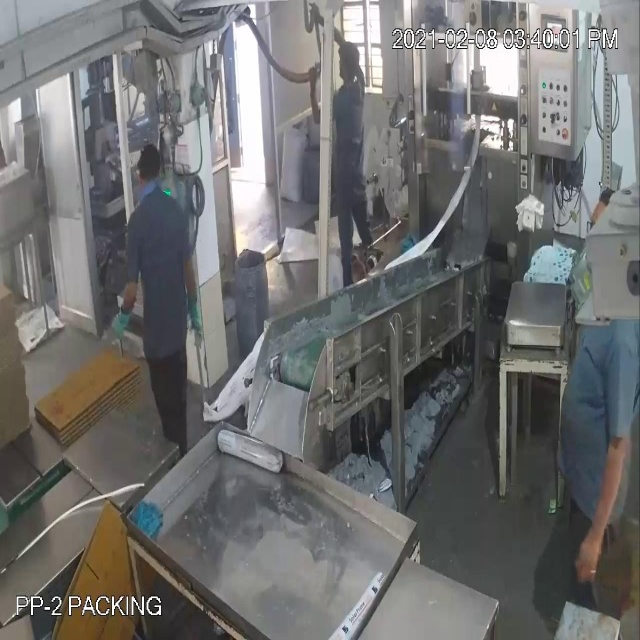Guantes: (101, 280, 142, 354), (180, 248, 208, 354)
Sin_guantes: (563, 408, 627, 596)
